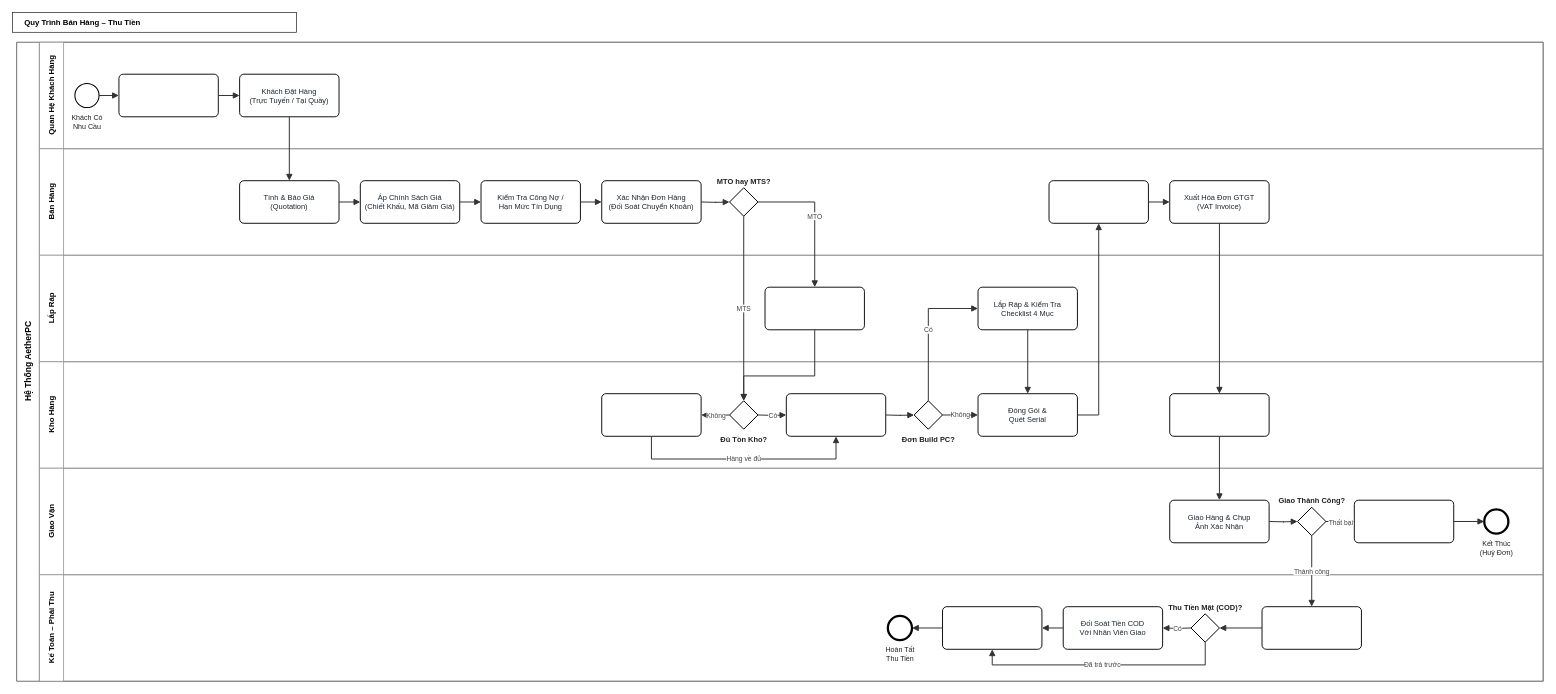
Image size: 1556x694. Some labels were removed from this diagram. Here are the shapes that lost their labels. From the top down, the centre of each, then its label:
point (168, 95): Quản Lý Khách Hàng & Hạng Thành Viên
point (1098, 201): Đề Nghị Giao Hàng (Delivery Request)
point (814, 308): Lập Lệnh Lắp Ráp
point (651, 414): Tạm Giữ Đơn, Lập Đề Xuất Mua & Chờ Hàng
point (836, 414): Xuất Kho, Trừ Tồn, Gán Serial & Ghi Giá Vốn
point (1219, 414): Xác Nhận Xuất Kho & Phân Công Giao Hàng
point (1404, 521): Hoàn Hàng Về Kho & Huỷ Đơn
point (992, 627): Quản Lý Công Nợ & Hóa Đơn Phải Thu
point (1311, 627): Ghi Nhận Phiếu Thu Thanh Toán Đơn Hàng
